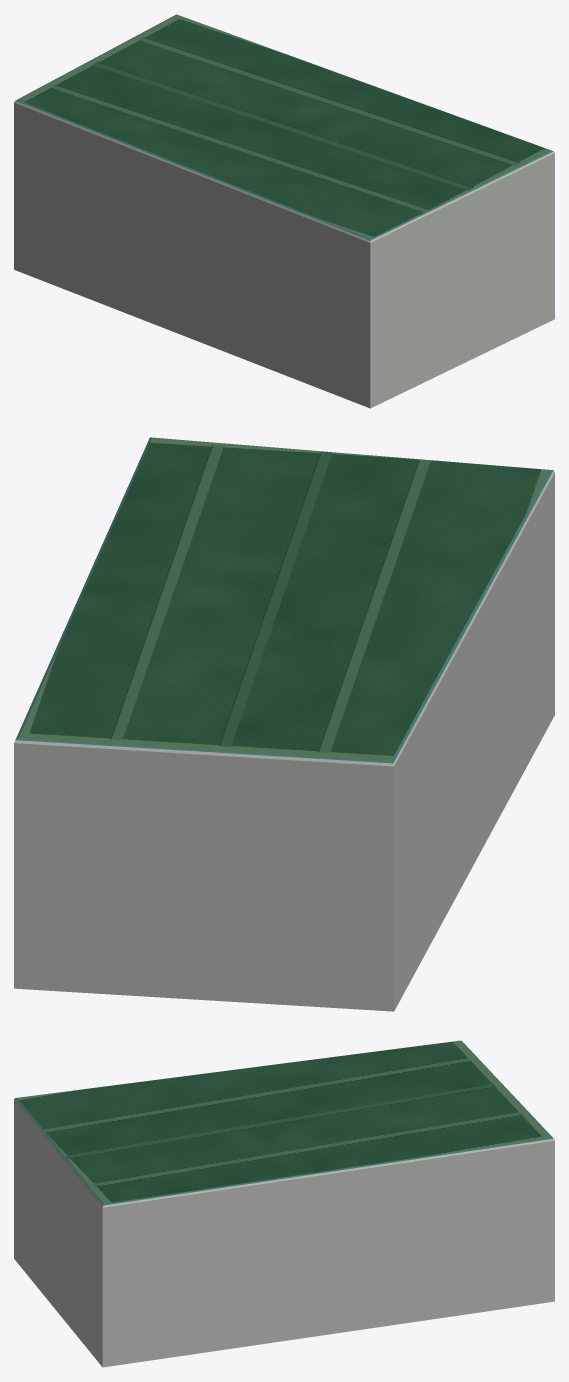
Rendered from fragments.glb.
3 renders of one model, top to bottom at view 1: azimuth 30°, elevation 25°; view 2: azimuth 150°, elevation 25°; view 3: azimuth 270°, elevation 25°, orthographic. The views are drawn at different scales.
Parts seen in each view (by area): view 1: SM_gh53_Fragment_016, SM_gh53_Fragment_025, SM_gh53_Fragment_035, SM_gh53_Fragment_019, SM_gh53_Fragment_024, SM_gh53_Fragment_044, SM_gh53_Fragment_006, SM_gh53_Fragment_004, SM_gh53_Fragment_017, SM_gh53_Fragment_036, SM_gh53_Fragment_063, SM_gh53_Fragment_008 (+26 smaller); view 2: SM_gh53_Fragment_020, SM_gh53_Fragment_001, SM_gh53_Fragment_043, SM_gh53_Fragment_003, SM_gh53_Fragment_013, SM_gh53_Fragment_006, SM_gh53_Fragment_036, SM_gh53_Fragment_027, SM_gh53_Fragment_017, SM_gh53_Fragment_024, SM_gh53_Fragment_059, SM_gh53_Fragment_019 (+26 smaller); view 3: SM_gh53_Fragment_050, SM_gh53_Fragment_014, SM_gh53_Fragment_005, SM_gh53_Fragment_039, SM_gh53_Fragment_009, SM_gh53_Fragment_037, SM_gh53_Fragment_045, SM_gh53_Fragment_036, SM_gh53_Fragment_032, SM_gh53_Fragment_006, SM_gh53_Fragment_057, SM_gh53_Fragment_061 (+26 smaller).
Boxes of the visible parts, x1=… form: SM_gh53_Fragment_016: x1=304, y1=308, x2=436, y2=408; SM_gh53_Fragment_025: x1=455, y1=162, x2=553, y2=286; SM_gh53_Fragment_035: x1=316, y1=219, x2=403, y2=337; SM_gh53_Fragment_019: x1=245, y1=184, x2=351, y2=302; SM_gh53_Fragment_024: x1=153, y1=134, x2=255, y2=225; SM_gh53_Fragment_044: x1=95, y1=124, x2=197, y2=238; SM_gh53_Fragment_006: x1=196, y1=104, x2=356, y2=157; SM_gh53_Fragment_004: x1=185, y1=212, x2=258, y2=318; SM_gh53_Fragment_017: x1=50, y1=88, x2=198, y2=159; SM_gh53_Fragment_036: x1=195, y1=43, x2=317, y2=104; SM_gh53_Fragment_063: x1=245, y1=244, x2=316, y2=363; SM_gh53_Fragment_008: x1=351, y1=190, x2=460, y2=263; SM_gh53_Fragment_020: x1=109, y1=716, x2=273, y2=891; SM_gh53_Fragment_001: x1=258, y1=729, x2=410, y2=897; SM_gh53_Fragment_043: x1=178, y1=862, x2=333, y2=1005; SM_gh53_Fragment_003: x1=14, y1=703, x2=147, y2=836; SM_gh53_Fragment_013: x1=57, y1=873, x2=200, y2=999; SM_gh53_Fragment_006: x1=208, y1=550, x2=390, y2=648; SM_gh53_Fragment_036: x1=44, y1=614, x2=246, y2=691; SM_gh53_Fragment_027: x1=14, y1=818, x2=129, y2=941; SM_gh53_Fragment_017: x1=302, y1=647, x2=437, y2=744; SM_gh53_Fragment_024: x1=361, y1=570, x2=498, y2=702; SM_gh53_Fragment_059: x1=156, y1=656, x2=302, y2=739; SM_gh53_Fragment_019: x1=435, y1=494, x2=539, y2=636; SM_gh53_Fragment_050: x1=328, y1=1159, x2=437, y2=1280; SM_gh53_Fragment_014: x1=250, y1=1132, x2=372, y2=1254; SM_gh53_Fragment_005: x1=92, y1=1156, x2=200, y2=1246; SM_gh53_Fragment_039: x1=189, y1=1145, x2=286, y2=1245; SM_gh53_Fragment_009: x1=216, y1=1221, x2=321, y2=1325; SM_gh53_Fragment_037: x1=116, y1=1230, x2=221, y2=1321; SM_gh53_Fragment_045: x1=76, y1=1241, x2=150, y2=1367; SM_gh53_Fragment_036: x1=323, y1=1109, x2=458, y2=1177; SM_gh53_Fragment_032: x1=275, y1=1254, x2=376, y2=1341; SM_gh53_Fragment_006: x1=195, y1=1089, x2=332, y2=1146; SM_gh53_Fragment_057: x1=408, y1=1216, x2=497, y2=1314; SM_gh53_Fragment_061: x1=444, y1=1108, x2=519, y2=1210.
Bounding box in the file's own units: 1.6 × 0.7329 × 2.2.
Materials: 4 (1 with a texture image).
